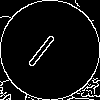I: (25, 25, 64, 70)
